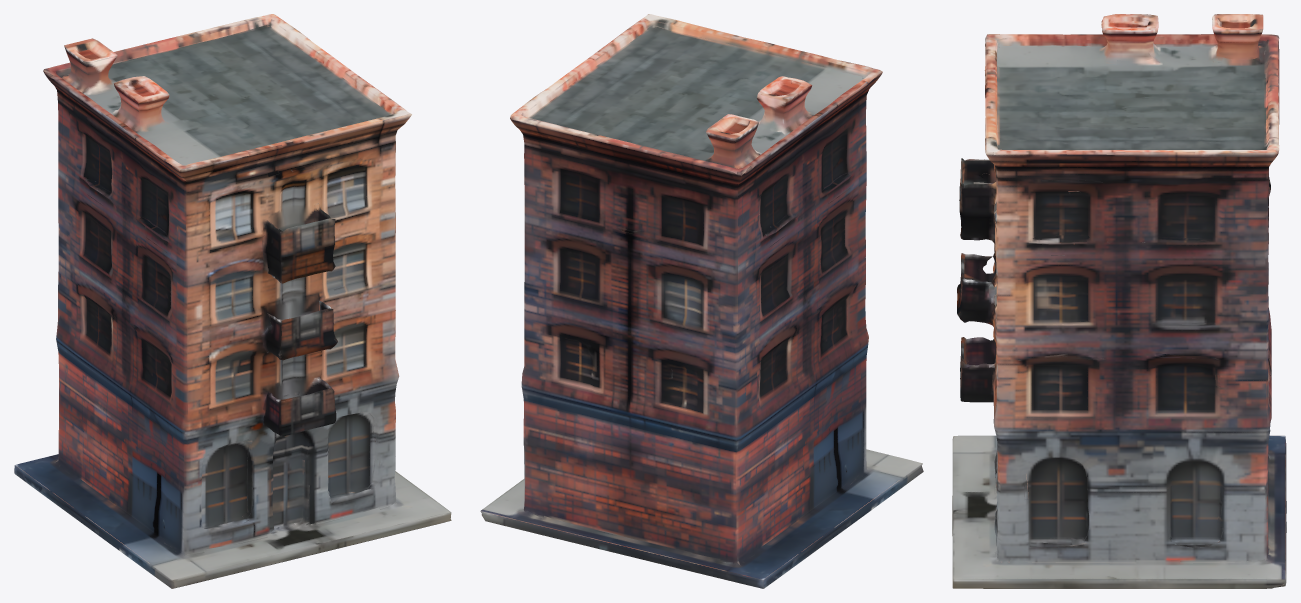
The model's file is base_basic_shaded.fbx.
The picture shows the model from 3 angles, left to right: view 1: azimuth 30°, elevation 25°; view 2: azimuth 150°, elevation 25°; view 3: azimuth 270°, elevation 25°; orthographic projection. The views are drawn at different scales.
Visible parts, largest first — view 1: model; view 2: model; view 3: model.
Boxes of the visible parts, bbox=[...] form: model: bbox=[14, 14, 451, 588]; model: bbox=[480, 14, 923, 588]; model: bbox=[952, 14, 1286, 588].
Bounding box in the file's own units: 130 × 190 × 127.
